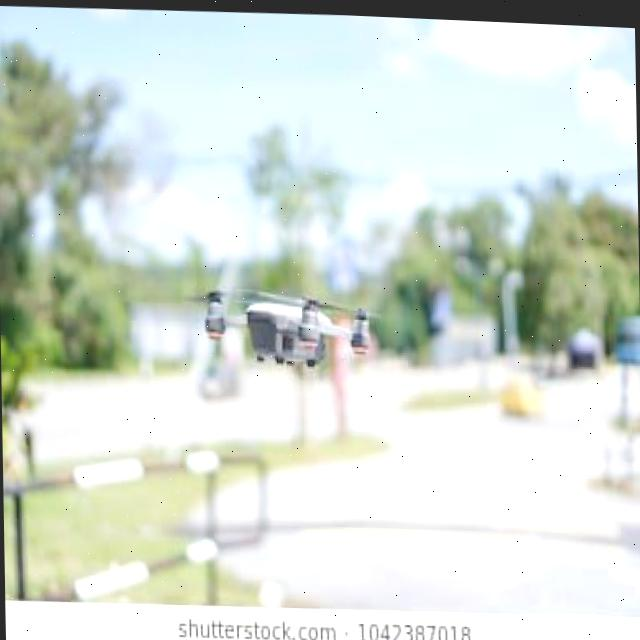drone: (148, 231, 436, 414)
